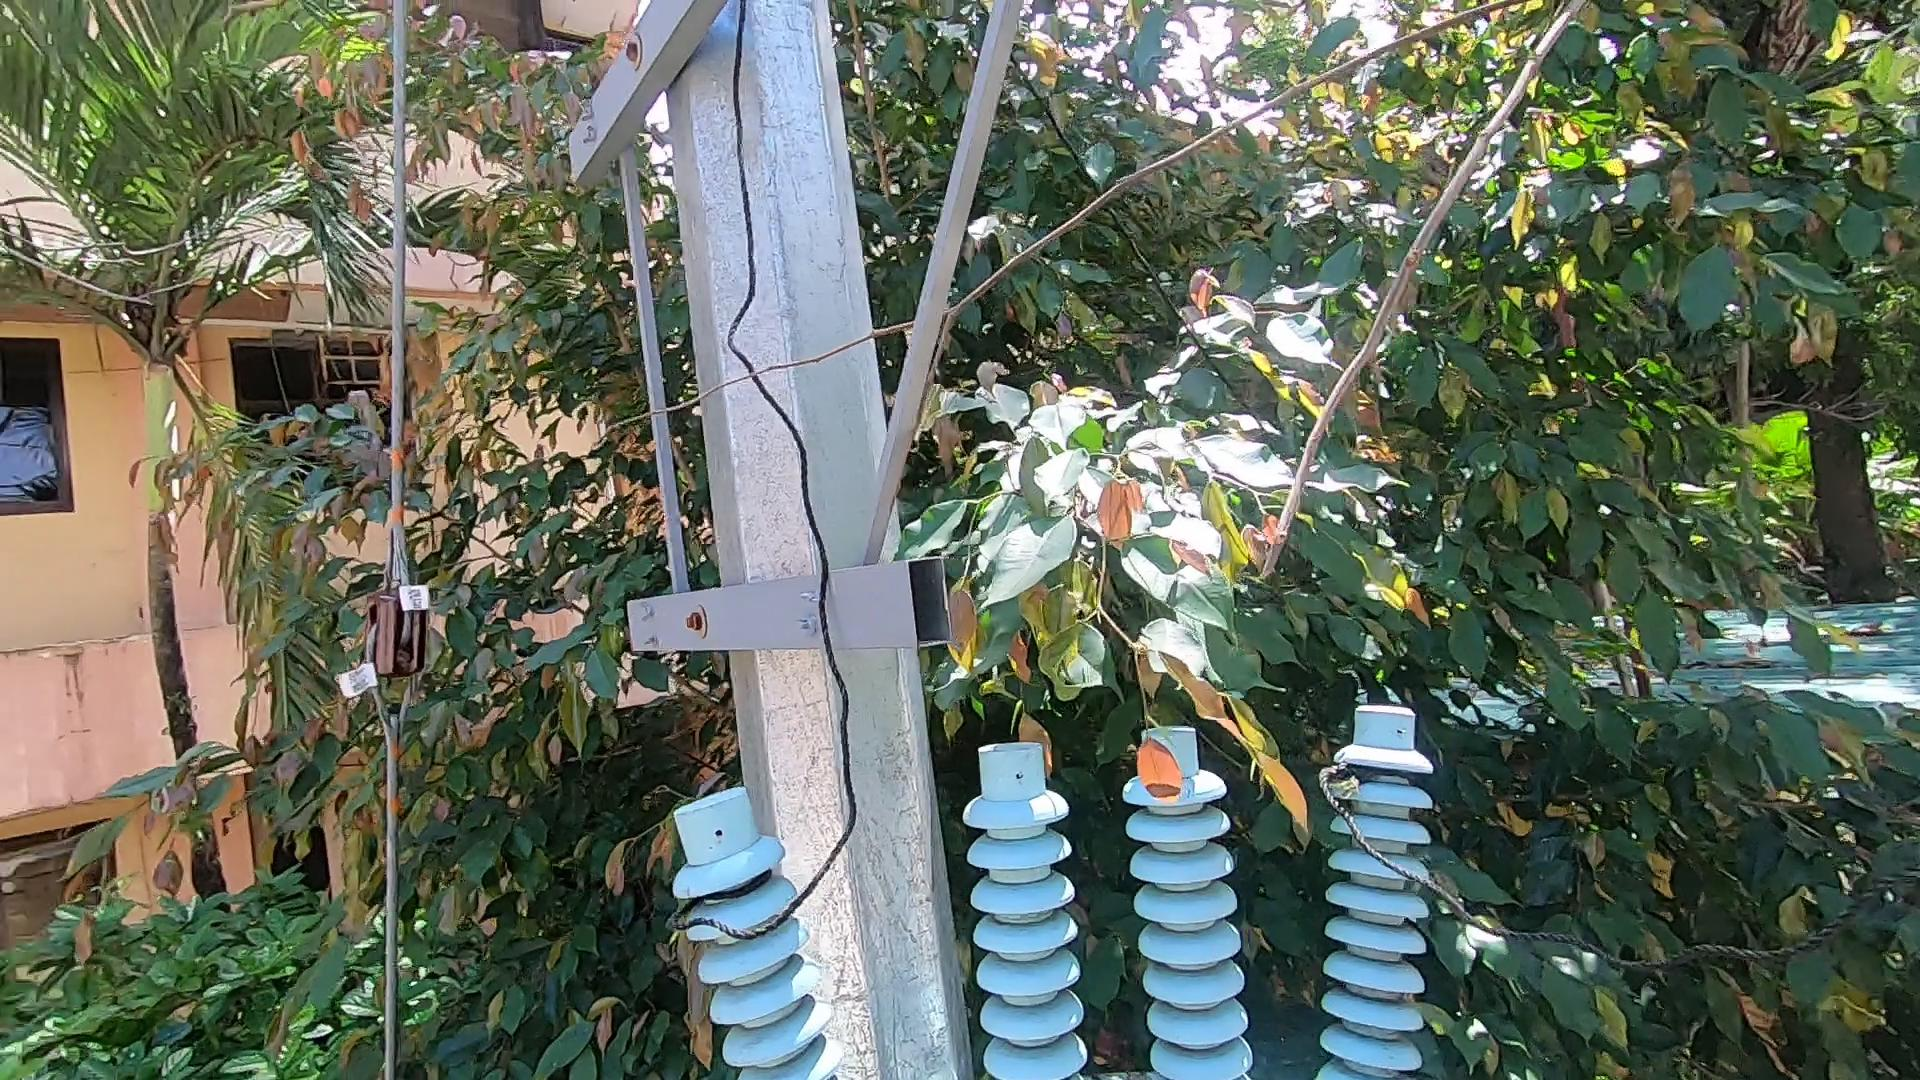branch with leaves: (1141, 659, 1323, 840)
tree branch: (558, 99, 1568, 632)
